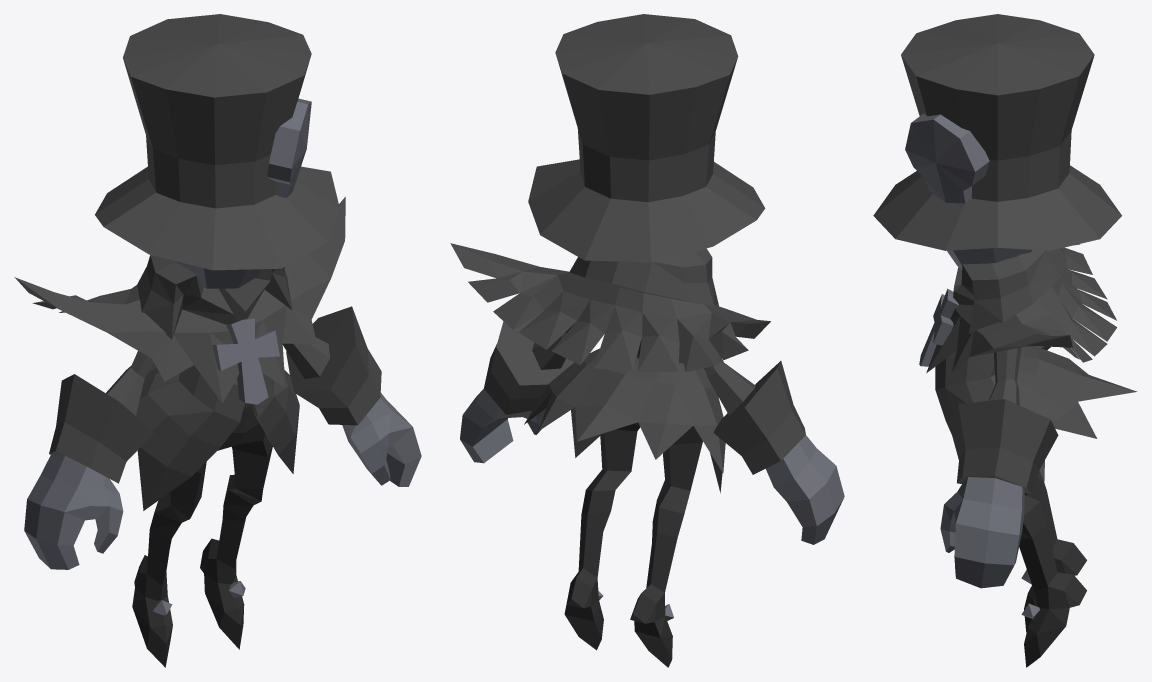
Rendered from FallenAngel01_ACC.FBX.
3 views of the same model, side by side, from view 1: azimuth 30°, elevation 25°; view 2: azimuth 150°, elevation 25°; view 3: azimuth 270°, elevation 25° (orthographic). The views are drawn at different scales.
Visible parts, largest first — view 1: FallenAngel01_ACC; view 2: FallenAngel01_ACC; view 3: FallenAngel01_ACC.
Boxes of the visible parts, box(x1,y1,x2,y2) form: FallenAngel01_ACC: box(14, 14, 421, 667); FallenAngel01_ACC: box(450, 14, 844, 667); FallenAngel01_ACC: box(873, 14, 1137, 667).
Size of the model in its own units: 92.28 by 147 by 58.01.
